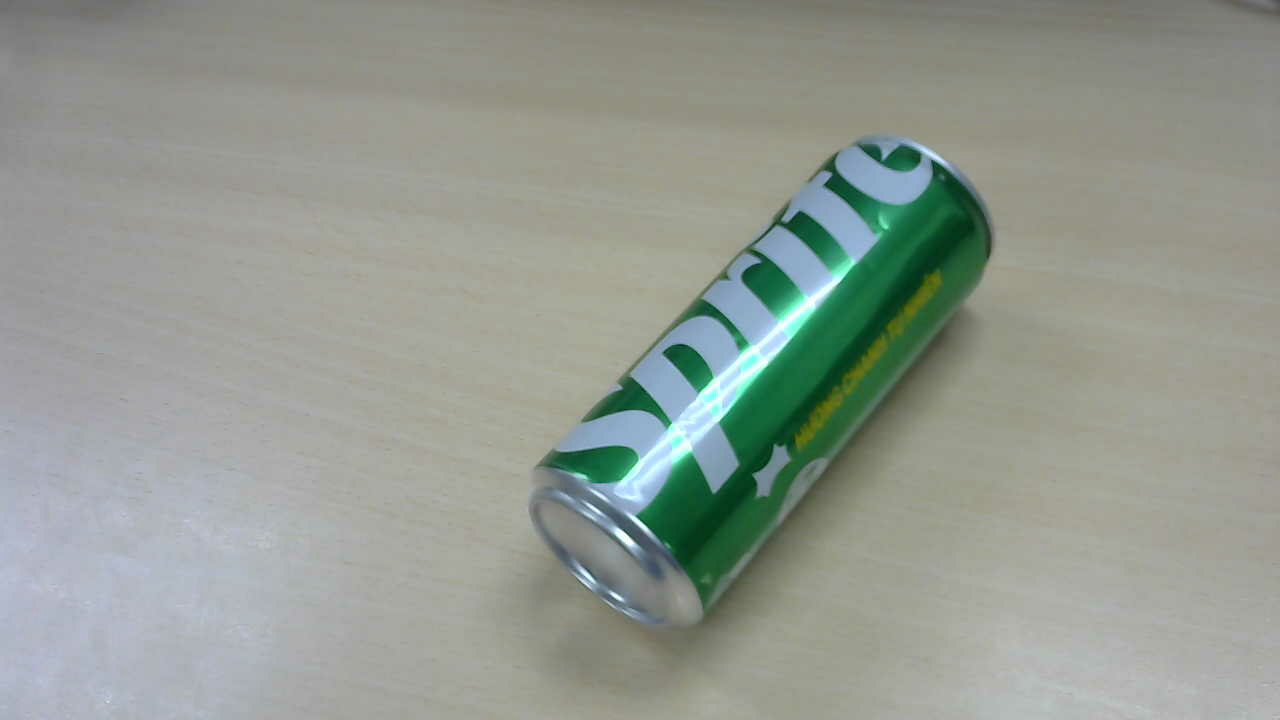Sprite: (531, 139, 998, 638)
